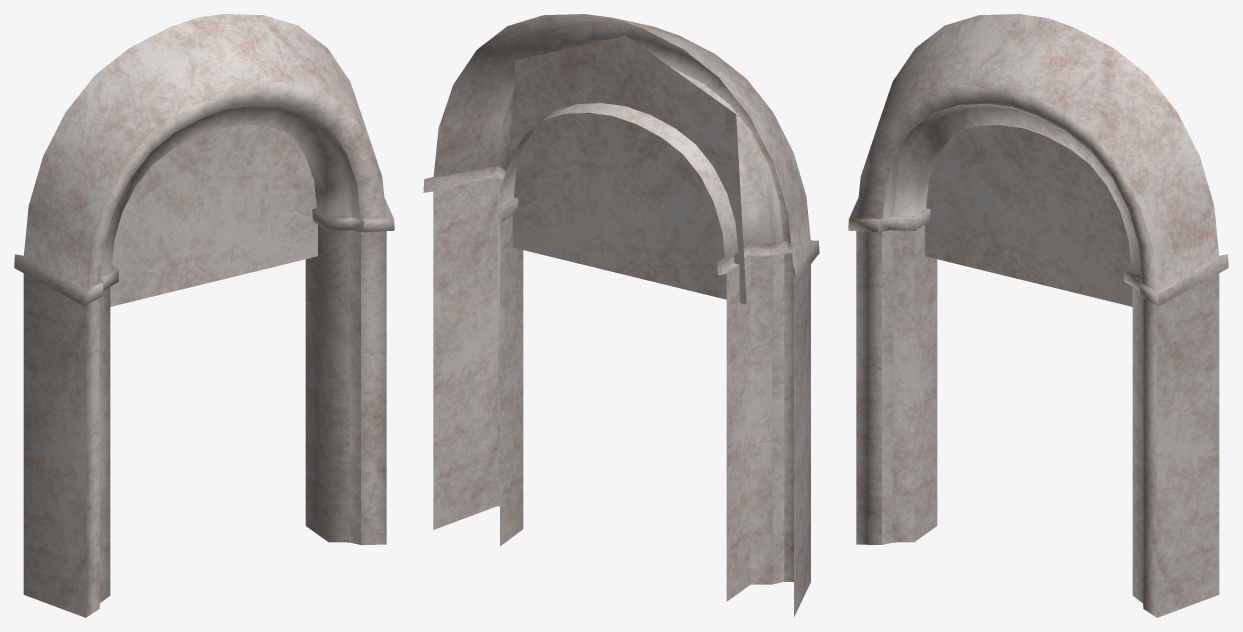
Rendered from ArchesDoubleDoorChurch.fbx.
3 views of the same model, side by side, from view 1: azimuth 30°, elevation 25°; view 2: azimuth 150°, elevation 25°; view 3: azimuth 330°, elevation 25° (orthographic). The views are drawn at different scales.
Parts seen in each view (by area): view 1: ArchesDoubleDoorChurch; view 2: ArchesDoubleDoorChurch; view 3: ArchesDoubleDoorChurch.
Boxes of the visible parts, x1,y1,x2,y2 form: ArchesDoubleDoorChurch: (14,14,394,617); ArchesDoubleDoorChurch: (423,14,819,616); ArchesDoubleDoorChurch: (848,14,1228,617).
Bounding box in the file's own units: 348 × 497 × 78.24.
1 material, 1 textured.
